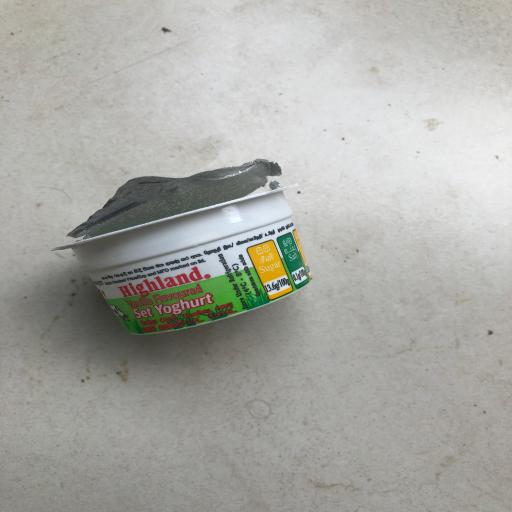waste: (46, 151, 355, 351)
